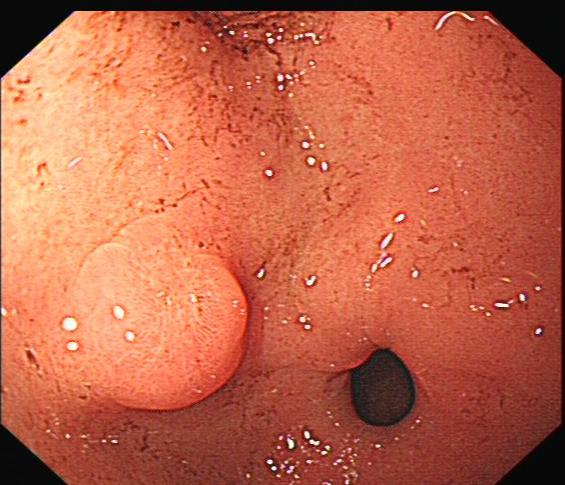Polyp: (76, 251, 255, 413)
